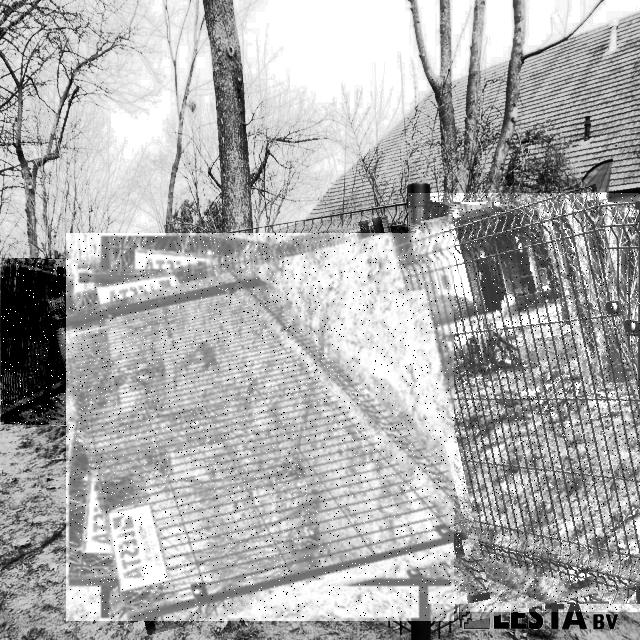fences: (66, 233, 454, 621), (408, 193, 640, 612), (1, 258, 76, 425)
